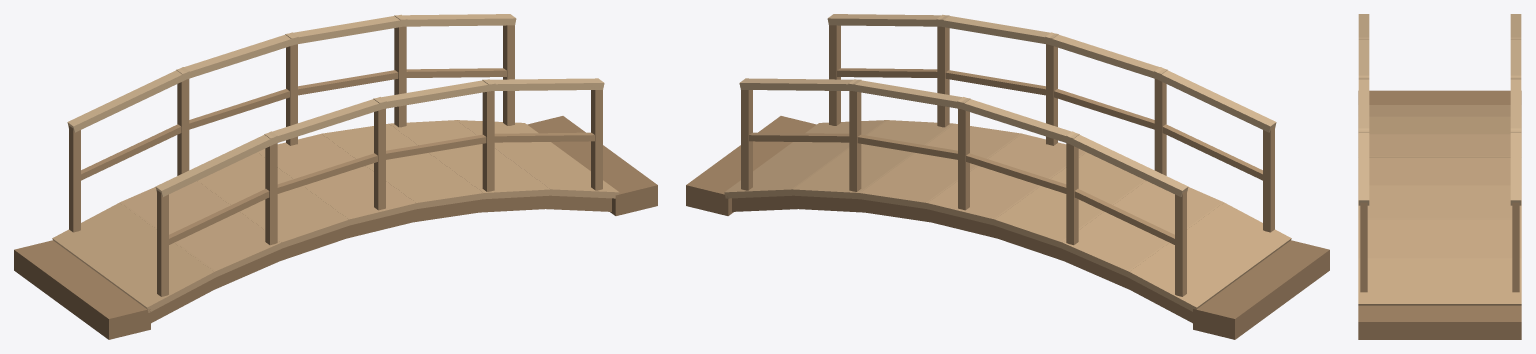
The model's file is th4_bruecke.glb.
3 renders of one model, left to right at view 1: azimuth 30°, elevation 25°; view 2: azimuth 150°, elevation 25°; view 3: azimuth 270°, elevation 25°, orthographic. The views are drawn at different scales.
Parts seen in each view (by area): view 1: Plank_0, Step_-1, Plank_1, Plank_2, Plank_3, Plank_4, Plank_5, Plank_6, Step_1, Rail_L_0, Rail_R_0, Rail_R_1 (+30 smaller); view 2: Plank_0, Step_-1, Plank_1, Plank_2, Plank_3, Plank_4, Plank_5, Plank_6, Step_1, Rail_R_0, Rail_L_0, Rail_L_1 (+30 smaller); view 3: Plank_6, Plank_5, Step_1, Plank_4, Plank_3, Plank_2, Plank_1, Step_-1, Plank_0, Rail_L_3, Rail_R_3, Post_L_4 (+7 smaller).
Part boxes in pixels (x1,y1,x2,y2): Plank_0: [52, 202, 217, 312]; Step_-1: [14, 240, 150, 339]; Plank_1: [120, 180, 283, 276]; Plank_2: [197, 152, 350, 247]; Plank_3: [257, 133, 417, 225]; Plank_4: [322, 123, 484, 209]; Plank_5: [389, 120, 551, 199]; Plank_6: [456, 120, 619, 198]; Step_1: [527, 116, 657, 215]; Rail_L_0: [155, 131, 278, 196]; Rail_R_0: [67, 67, 190, 132]; Rail_R_1: [176, 32, 298, 78]; Plank_0: [1126, 202, 1291, 311]; Step_-1: [1193, 240, 1329, 339]; Plank_1: [1060, 180, 1223, 276]; Plank_2: [993, 152, 1146, 248]; Plank_3: [926, 133, 1086, 224]; Plank_4: [859, 123, 1021, 208]; Plank_5: [792, 120, 954, 199]; Plank_6: [724, 120, 887, 198]; Step_1: [686, 116, 816, 215]; Rail_R_0: [1065, 131, 1188, 196]; Rail_L_0: [1153, 67, 1276, 132]; Rail_L_1: [1045, 32, 1167, 80]; Plank_6: [1358, 258, 1521, 305]; Plank_5: [1358, 218, 1521, 258]; Step_1: [1358, 305, 1521, 339]; Plank_4: [1358, 185, 1521, 219]; Plank_3: [1358, 156, 1521, 185]; Plank_2: [1358, 134, 1521, 157]; Plank_1: [1358, 116, 1521, 134]; Step_-1: [1358, 90, 1521, 104]; Plank_0: [1358, 105, 1521, 116]; Rail_L_3: [1358, 128, 1369, 205]; Rail_R_3: [1510, 128, 1521, 205]; Post_L_4: [1360, 202, 1367, 292].
Bounding box in the file's own units: 4.68 × 1.39 × 1.4.
